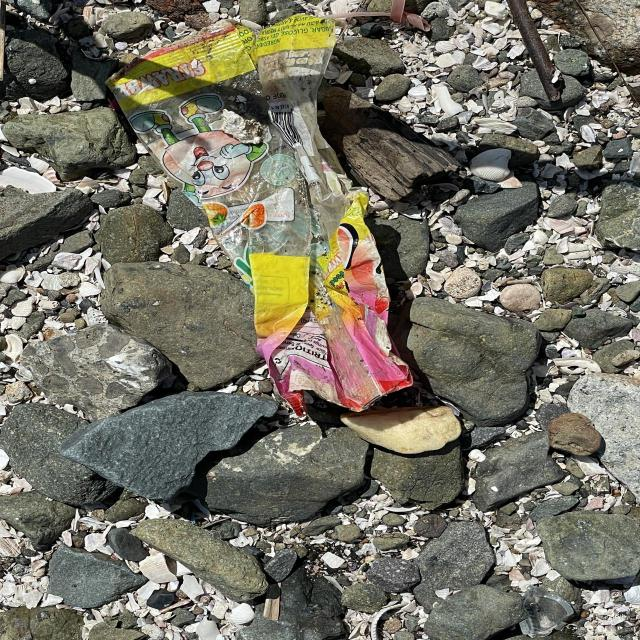plastic_waste: (100, 24, 418, 418)
